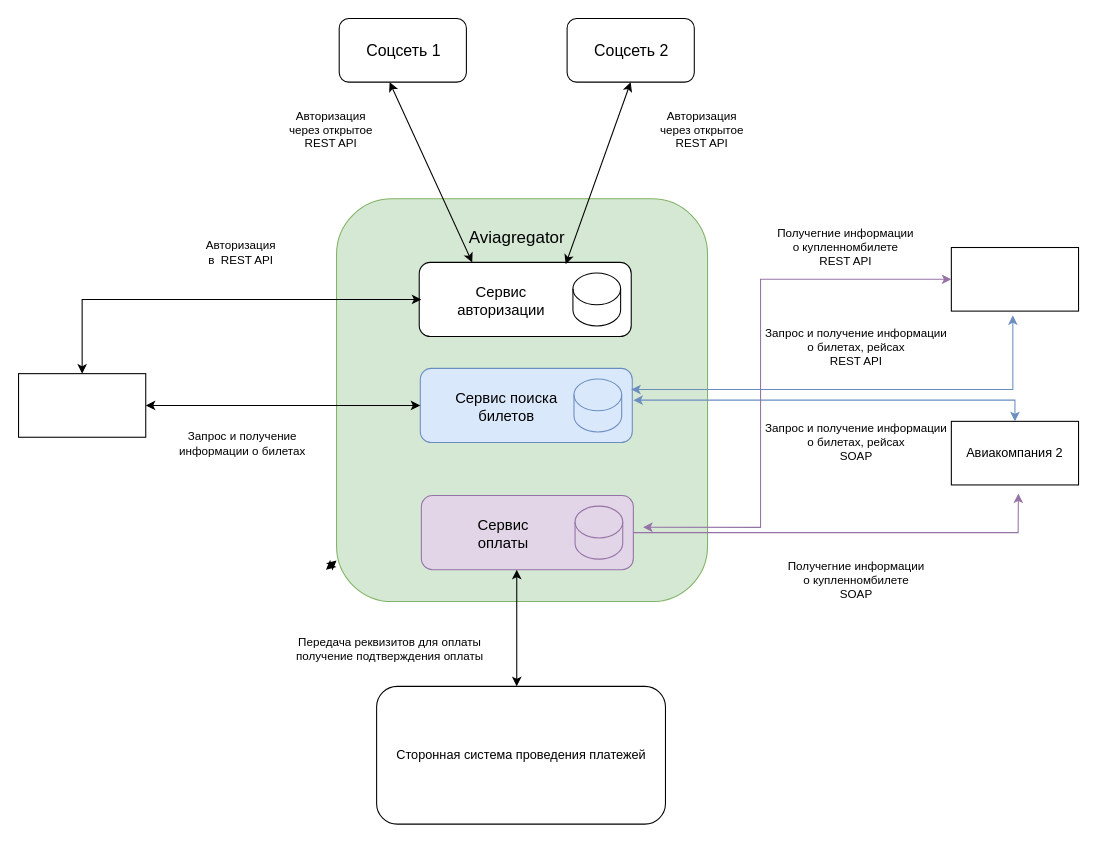
This 1097x843 diagram has some shape labels left out. Each missing label, with the box of its shape:
Авиакомпания 1: (950, 246, 1079, 311)
Партнерские компании: (17, 373, 146, 437)
